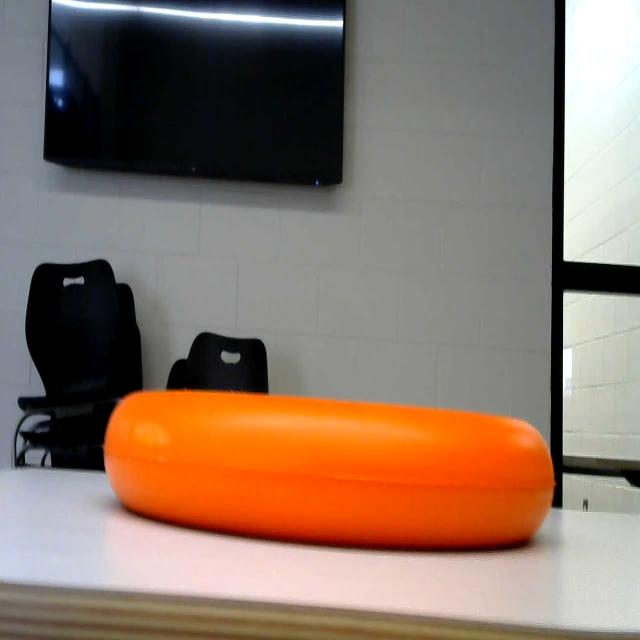note: (90, 383, 566, 549)
